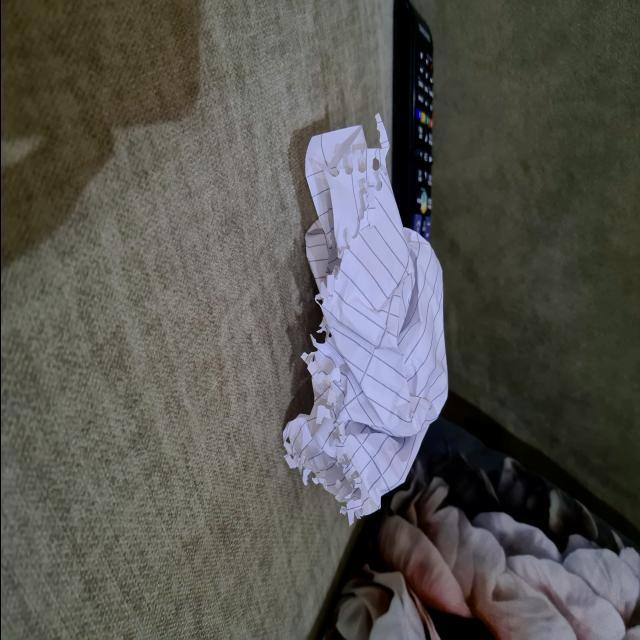Paper: (283, 112, 456, 510)
